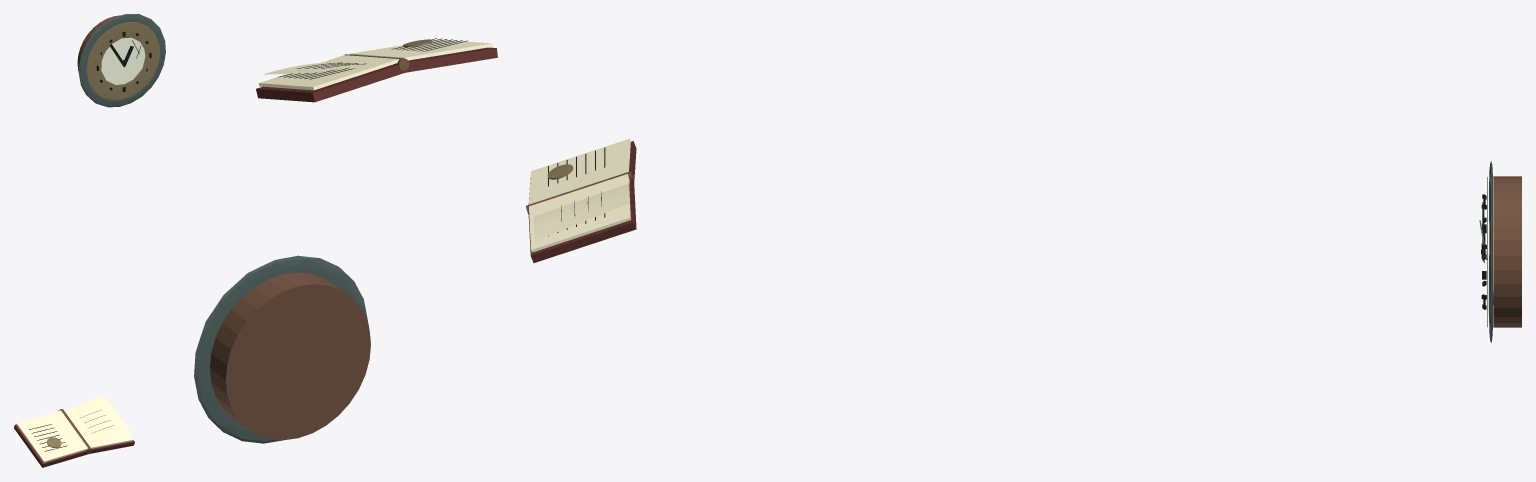
Rendered from classroom-dress.glb.
3 views of the same model, side by side, from view 1: azimuth 30°, elevation 25°; view 2: azimuth 210°, elevation 25°; view 3: azimuth 270°, elevation 25° (orthographic). The views are drawn at different scales.
Visible parts, largest first — view 1: CLOCK_Inner_Rim, BOOK_Paper_Left, CLOCK_Brass_Frame, BOOK_Page_Turning, CLOCK_Dial, BOOK_Paper_Right, BOOK_Cover_Left, CLOCK_Oxblood_Rim, BOOK_Cover_Right; view 2: CLOCK_Oxblood_Rim, CLOCK_Brass_Frame, BOOK_Paper_Right, BOOK_Cover_Right, BOOK_Paper_Left, BOOK_Cover_Left, BOOK_Page_Turning; view 3: CLOCK_Oxblood_Rim, BOOK_Paper_Left, BOOK_Paper_Right, BOOK_Page_Turning, BOOK_Cover_Right.
Boxes of the visible parts, bbox=[...] form: CLOCK_Inner_Rim: bbox=[86, 22, 159, 100]; BOOK_Paper_Left: bbox=[16, 410, 87, 462]; CLOCK_Brass_Frame: bbox=[78, 14, 165, 107]; BOOK_Page_Turning: bbox=[71, 396, 131, 443]; CLOCK_Dial: bbox=[101, 37, 145, 84]; BOOK_Paper_Right: bbox=[63, 408, 133, 448]; BOOK_Cover_Left: bbox=[14, 424, 88, 467]; CLOCK_Oxblood_Rim: bbox=[77, 15, 120, 70]; BOOK_Cover_Right: bbox=[89, 440, 134, 453]; CLOCK_Oxblood_Rim: bbox=[210, 272, 370, 440]; CLOCK_Brass_Frame: bbox=[194, 255, 368, 443]; BOOK_Paper_Right: bbox=[258, 55, 398, 90]; BOOK_Cover_Right: bbox=[256, 64, 404, 102]; BOOK_Paper_Left: bbox=[349, 39, 492, 60]; BOOK_Cover_Left: bbox=[404, 47, 497, 72]; BOOK_Page_Turning: bbox=[263, 62, 392, 74]; CLOCK_Oxblood_Rim: bbox=[1493, 176, 1521, 327]; BOOK_Paper_Left: bbox=[529, 138, 630, 204]; BOOK_Paper_Right: bbox=[529, 174, 630, 252]; BOOK_Page_Turning: bbox=[534, 179, 629, 240]; BOOK_Cover_Right: bbox=[528, 178, 636, 262].
Size of the model in its own units: 4.23 by 1.82 by 5.19.
